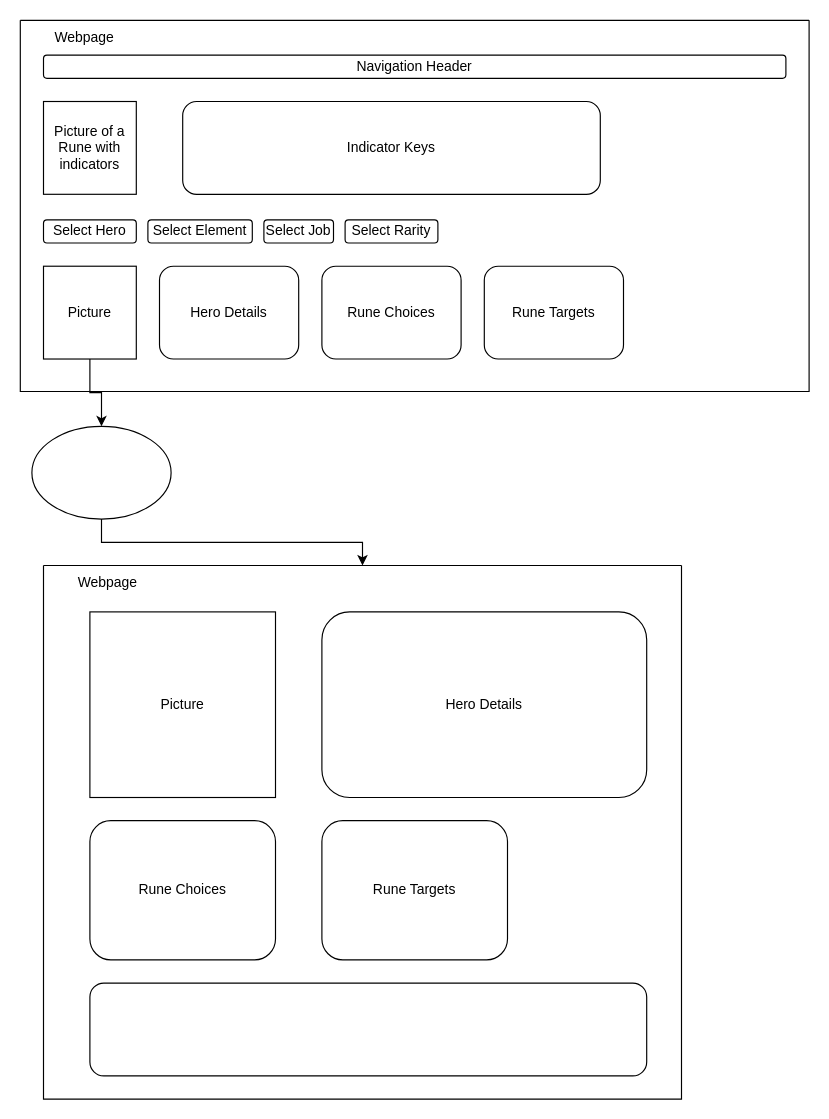
This 829x1119 diagram has some shape labels left out. The shapes that lost their labels are listed below. From the top down, each one's centre as x and y in pixels, then its label:
the point at 101,472: if picture is selected
the point at 368,1029: Info
